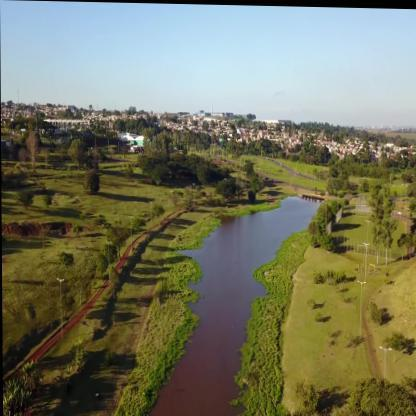agua: (187, 221, 269, 415)
